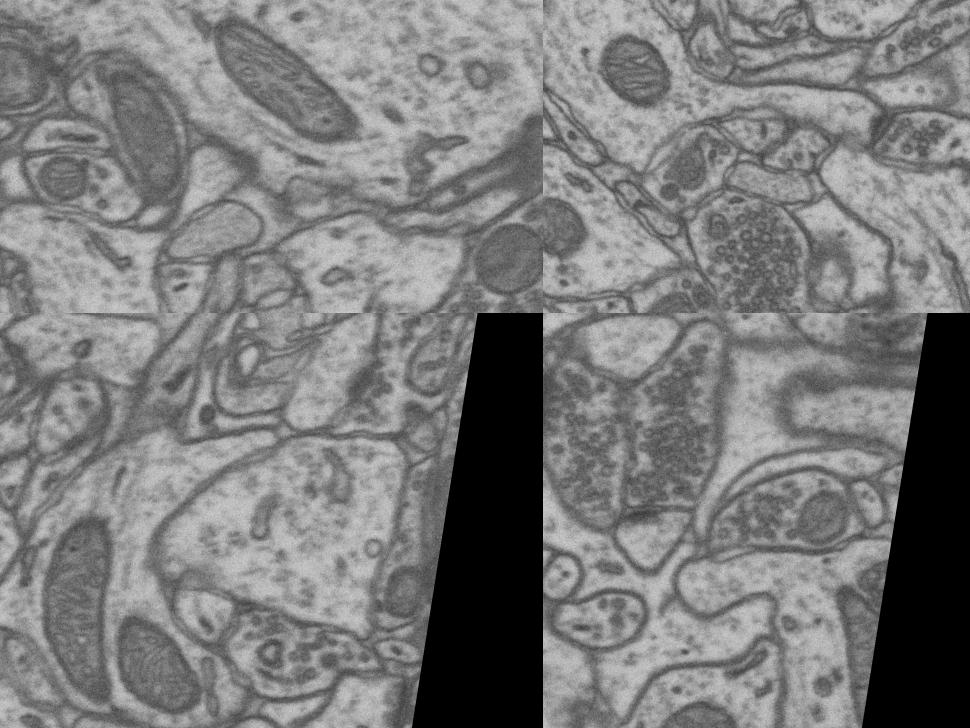mitochondria: (188, 1, 383, 156), (70, 44, 212, 206), (24, 502, 134, 702), (794, 577, 883, 728), (100, 610, 215, 721), (584, 20, 685, 124), (454, 204, 543, 313), (782, 478, 856, 562), (0, 27, 63, 124), (630, 681, 757, 728), (20, 146, 98, 212), (543, 179, 600, 267), (375, 552, 438, 624), (840, 548, 889, 632), (629, 283, 710, 313), (434, 465, 453, 516)
